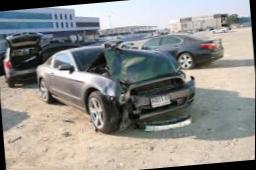Bonnet: (81, 45, 184, 82)
Bumper: (111, 76, 200, 125)
Fender: (83, 76, 117, 96)
Light: (118, 81, 142, 93)
